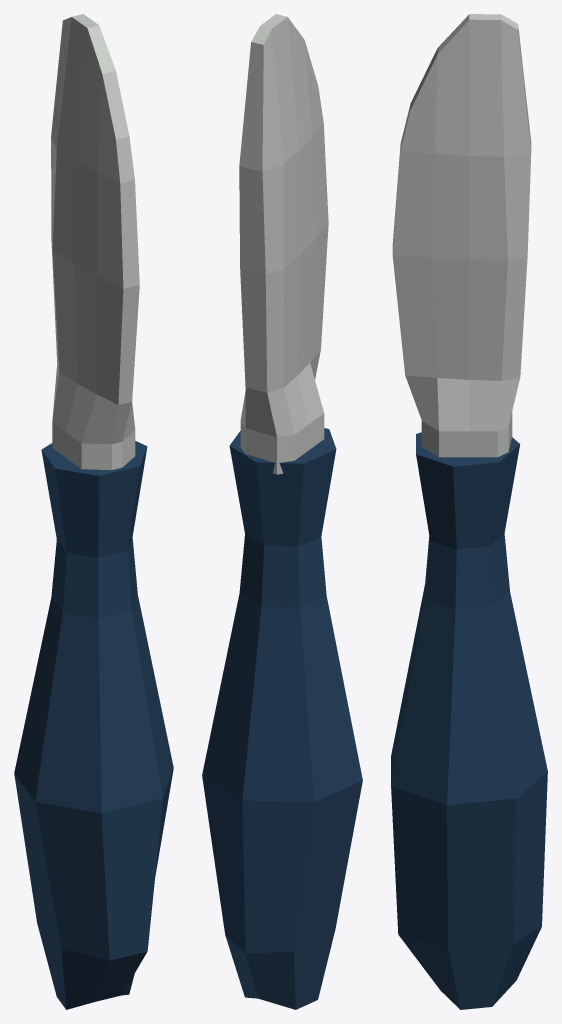
File: knife-navy.fbx
The picture shows the model from 3 angles, left to right: view 1: azimuth 30°, elevation 25°; view 2: azimuth 150°, elevation 25°; view 3: azimuth 270°, elevation 25°; orthographic projection.
Parts seen in each view (by area): view 1: knife.005; view 2: knife.005; view 3: knife.005.
Boxes of the visible parts, box(x1,y1,x2,y2) form: knife.005: box(14, 14, 173, 1009); knife.005: box(202, 14, 362, 1009); knife.005: box(391, 14, 547, 1009).
Size of the model in its own units: 142 by 950 by 138.
